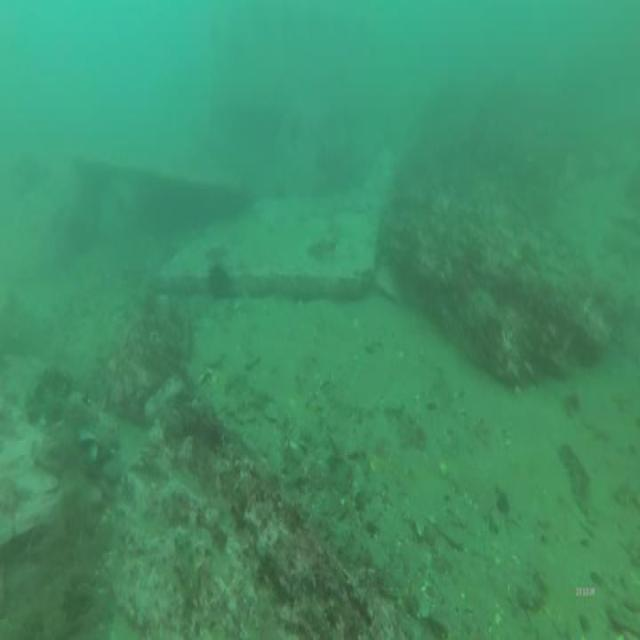echinus: (208, 258, 231, 297)
starfish: (79, 414, 118, 469)
